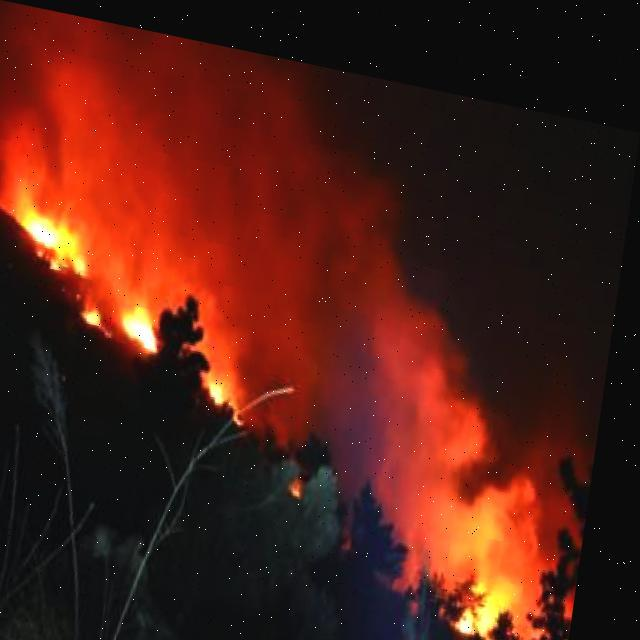Fire: (86, 257, 174, 354), (19, 189, 98, 278), (464, 538, 536, 634), (212, 348, 250, 407)
